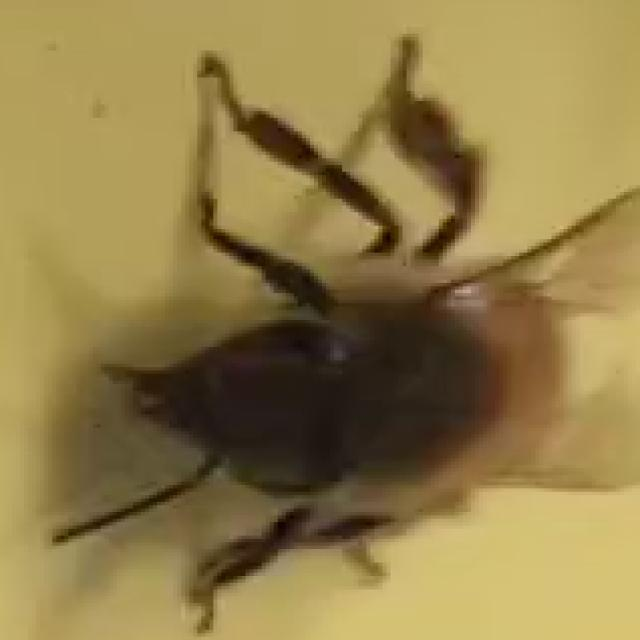honeybee: (88, 136, 640, 615)
